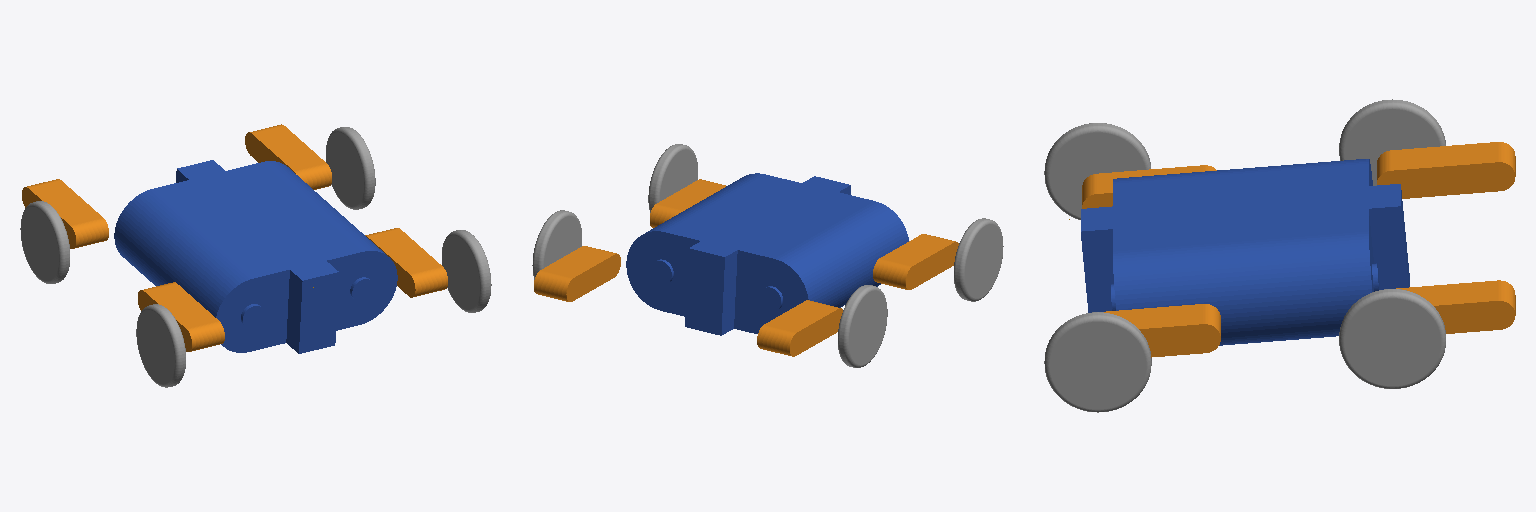
--- Render facts (derived) ---
3 views of the same robot in one strip: view 1: azimuth 30°, elevation 25°; view 2: azimuth 150°, elevation 25°; view 3: azimuth 270°, elevation 25° (orthographic).
Model wheely with 18 links and 17 joints (16 revolute, 1 fixed), rooted at base, posed all joints at 0.
Links seen in each view (by area): view 1: trunk, FRW, BRW, BLW, FLW, BLUL, FLUL, FRUL, BRUL; view 2: trunk, BLUL, BRW, FRW, BRUL, FRUL, FLW, BLW, FLUL; view 3: trunk, BLW, FLW, BRUL, FRW, BRW, BLUL, FLUL, FRUL.
Boxes of the visible links, x1,y1,x2,y2 form: trunk: (114, 160, 397, 353); FRW: (136, 304, 185, 387); BRW: (20, 201, 69, 283); BLW: (326, 127, 375, 209); FLW: (442, 230, 491, 312); BLUL: (245, 124, 331, 189); FLUL: (365, 228, 447, 297); FRUL: (138, 282, 224, 351); BRUL: (22, 179, 108, 248); trunk: (626, 173, 908, 335); BLUL: (534, 246, 620, 301); BRW: (838, 285, 887, 367); FRW: (954, 218, 1003, 301); BRUL: (757, 300, 842, 356); FRUL: (873, 234, 958, 289); FLW: (648, 144, 697, 212); BLW: (532, 210, 581, 279); FLUL: (650, 179, 725, 227); trunk: (1081, 159, 1409, 345); BLW: (1339, 289, 1445, 388); FLW: (1044, 312, 1151, 412); BRUL: (1377, 142, 1515, 198); FRW: (1044, 123, 1150, 219); BRW: (1339, 99, 1445, 185); BLUL: (1396, 280, 1515, 333); FLUL: (1104, 304, 1220, 357); FRUL: (1082, 165, 1216, 208).
Bounding box of the posed robot: 0.433 × 0.4396 × 0.1258 m (x, y, z).
9 mesh visuals loaded from 5 distinct referenced files (3 binary STL); not drawn: 8 (reference not matched to a file when rendering).

The robot description file, URDF, robot "wheely":
<?xml version="1.0" encoding="utf-8"?>
<robot name="wheely">
    <link name="base">
        <visual>
            <origin rpy="0 0 0" xyz="0 0 0" />
            <geometry>
                <box size="0.001 0.001 0.001" />
            </geometry>
        </visual>
    </link>
    <joint name="floating_base" type="fixed">
        <origin rpy="0 0 0" xyz="0 0 0" />
        <parent link="base" />
        <child link="trunk" />
    </joint>
    <link name="trunk">
        <visual>
            <origin xyz="0.016085846076173661995 0.168115314486978501 -0.079626516931856003434"
                rpy="0.087266479572840227608 1.1592872166690008089e-09 -1.3250729495637539251e-08" />
            <geometry>
                <mesh filename="../meshes/V2.7/main_body_sim.stl" />
            </geometry>
            <material name="main_body_sim_material">
                <color rgba="0.2313725490196078538 0.38039215686274507888 0.7058823529411765163 1.0" />
            </material>
        </visual>
        <collision>
            <origin xyz="0.016085846076173661995 0.168115314486978501 -0.079626516931856003434"
                rpy="0.087266479572840227608 1.1592872166690008089e-09 -1.3250729495637539251e-08" />
            <geometry>
                <mesh filename="../meshes/V2.7/main_body_sim.stl" />
            </geometry>
        </collision>
        <inertial>
            <origin xyz="0.016085846076173533625 0.16375752650416883216 -0.029816782101233972602"
                rpy="0 0 0" />
            <mass value="1.0520000000000002682" />
            <inertia ixx="0.0066139164607848287616" ixy="-1.7682651499246315317e-11"
                ixz="-1.5470365969232099219e-12" iyy="0.0053174843064010216681"
                iyz="-0.00043473230710836267745" izz="0.010248462186988568576" />
        </inertial>
    </link>

    <link name="FRH">
        <visual>
            <origin xyz="0.032215611636638628867 0.028555101990604014883 0"
                rpy="1.570796326794896558 -4.2438333867592718619e-25 4.6771345179228599959e-26" />
            <geometry>
                <mesh filename="../meshes/V2.7/hip_joint_sim.stl" />
            </geometry>
            <material name="hip_joint_sim_material">
                <color
                    rgba="0.86666666666666669627 0.32156862745098041545 0.15686274509803921351 1.0" />
            </material>
        </visual>
        <collision>
            <origin xyz="0.032215611636638628867 0.028555101990604014883 0"
                rpy="1.570796326794896558 -4.2438333867592718619e-25 4.6771345179228599959e-26" />
            <geometry>
                <mesh filename="../meshes/V2.7/hip_joint_sim.stl" />
            </geometry>
        </collision>
        <inertial>
            <origin xyz="0.021525592503996208993 1.0408340855860842566e-17 -0.012500000000000000694"
                rpy="0 0 0" />
            <mass value="0.0090000000000000010547" />
            <inertia ixx="1.1139804559497151344e-06" ixy="-5.7653600179275655136e-32"
                ixz="4.5802622107353119717e-30" iyy="3.861958513835964979e-06"
                iyz="1.6881355714084500069e-23" izz="4.0384389697856793485e-06" />
        </inertial>
    </link>

    <link name="FRUL">
        <visual>
            <origin xyz="0 -3.4694469519536141888e-18 -0.044999999999999984457"
                rpy="-1.570796326794896558 -1.570796326794896558 0" />
            <geometry>
                <mesh filename="../meshes/V2.7/leg_upper_sim.stl" />
            </geometry>
            <material name="leg_upper_sim_material">
                <color
                    rgba="0.90980392156862743835 0.57254901960784310155 0.16470588235294117418 1.0" />
            </material>
        </visual>
        <collision>
            <origin xyz="0 -3.4694469519536141888e-18 -0.044999999999999984457"
                rpy="-1.570796326794896558 -1.570796326794896558 0" />
            <geometry>
                <mesh filename="../meshes/V2.7/leg_upper_sim.stl" />
            </geometry>
        </collision>
        <inertial>
            <origin
                xyz="6.2383065914996698518e-18 -0.049999999999999995837 -0.022499999999999978351"
                rpy="0 0 0" />
            <mass value="0.37600000000000000089" />
            <inertia ixx="0.00054596018323756537703" ixy="-3.6081502289419232503e-21"
                ixz="-1.5570501078285423572e-28" iyy="9.0305640199817024754e-05"
                iyz="-1.0816533961556011352e-27" izz="0.00050936582343738242076" />
        </inertial>
    </link>

    <link name="FRLL">
        <visual>
            <origin xyz="-6.9388939039072283776e-18 0 -0.025000000000000022204"
                rpy="-1.570796326794896558 -1.570796326794896558 0" />
            <geometry>
                <mesh filename="../meshes/V2.7/leg_lower_sim.stl" />
            </geometry>
            <material name="leg_lower_sim_material">
                <color rgba="1 0.7568627450980391913 0.054901960784313724728 1.0" />
            </material>
        </visual>
        <collision>
            <origin xyz="-6.9388939039072283776e-18 0 -0.025000000000000022204"
                rpy="-1.570796326794896558 -1.570796326794896558 0" />
            <geometry>
                <mesh filename="../meshes/V2.7/leg_lower_sim.stl" />
            </geometry>
        </collision>
        <inertial>
            <origin
                xyz="-1.6565681861865563553e-18 -0.061136909622975930956 -0.012500000000000019776"
                rpy="0 0 0" />
            <mass value="0.058000000000000002942" />
            <inertia ixx="9.3657217382847455416e-05" ixy="8.7623385824824253441e-22"
                ixz="-8.0076840611424203394e-30" iyy="9.3296789238021381879e-06"
                iyz="2.7174534049753015943e-28" izz="9.6945229639982987888e-05" />
        </inertial>
    </link>

    <link name="FRW">
        <visual>
            <origin xyz="-0.087087206542491898964 -0.02704686298966407082 -0.014999999999999985567"
                rpy="-1.570796326794896558 -1.570796326794896558 0" />
            <geometry>
                <mesh filename="../meshes/V2.7/wheel_sim.stl" />
            </geometry>
            <material name="wheel_sim_material">
                <color
                    rgba="0.64705882352941179736 0.64705882352941179736 0.64705882352941179736 1.0" />
            </material>
        </visual>
        <collision>
            <origin xyz="-0.087087206542491898964 -0.02704686298966407082 -0.014999999999999985567"
                rpy="-1.570796326794896558 -1.570796326794896558 0" />
            <geometry>
                <mesh filename="../meshes/V2.7/wheel_sim.stl" />
            </geometry>
        </collision>
        <inertial>
            <origin
                xyz="1.3527462244954900352e-17 3.4694469519536141888e-18 -0.007499999999999986712"
                rpy="0 0 0" />
            <mass value="0.036999999999999998168" />
            <inertia ixx="2.3186407739588025368e-05" ixy="-4.9990566576337651389e-22"
                ixz="-7.9693294831989268377e-30" iyy="2.3186407739588018592e-05"
                iyz="-4.276202136615104681e-30" izz="4.5033754578493196004e-05" />
        </inertial>
    </link>

    <joint name="FRW joint" type="revolute">
        <origin xyz="-2.0816681711721685133e-17 -0.099999999999999880651 -0.025500000000000022649"
            rpy="-7.9092802216408258593e-24 6.8814771349931104597e-24 1.570796326794896558" />
        <parent link="FRLL" />
        <child link="FRW" />
        <axis xyz="0 0 1" />
        <limit effort="3.43" velocity="1.5707" />
        <joint_properties friction="0.0" />
    </joint>

    <joint name="FRK joint" type="revolute">
        <origin xyz="1.3877787807814456755e-17 -0.10000000000000000555 -0.045499999999999957145"
            rpy="5.0864344218527357745e-16 -8.2215564428531773414e-17 3.141592653589753148" />
        <parent link="FRUL" />
        <child link="FRLL" />
        <axis xyz="0 0 1" />
        <limit effort="6.864655" velocity="8.055365759832842" lower="0" upper="3.141592653589793116" />
        <joint_properties friction="0.0" />
    </joint>

    <joint name="FRHL joint" type="revolute">
        <origin xyz="0.055499999999999986844 6.9388939039072283776e-18 -0.012500000000000004163"
            rpy="-1.57079632679489678 -1.6973124467726718736e-08 1.5707963267948958919" />
        <parent link="FRH" />
        <child link="FRUL" />
        <axis xyz="0 0 1" />
        <limit effort="6.864655" velocity="8.055365759832842" lower="-3.141592653589793116" upper="0" />
        <joint_properties friction="0.0" />
    </joint>

    <joint name="FRHU joint" type="revolute">
        <origin xyz="-0.058914155593145264844 0.038735093073112264461 -0.040754829851139789954"
            rpy="1.4835298472220561639 -1.1592871302188590348e-09 3.1415926403390632693" />
        <parent link="trunk" />
        <child link="FRH" />
        <axis xyz="0 0 1" />
        <limit effort="6.864655" velocity="8.055365759832842" lower="-0.75" upper="0.75" />
        <joint_properties friction="0.0" />
    </joint>

    <link name="FLH">
        <visual>
            <origin xyz="0.032215611636638635806 0.028555101990604007944 0"
                rpy="1.570796326794896558 7.0286894079455799334e-25 -5.5953751071726945294e-26" />
            <geometry>
                <mesh filename="../meshes/V2.7/hip_joint_sim.stl" />
            </geometry>
            <material name="hip_joint_sim_material">
                <color
                    rgba="0.86666666666666669627 0.32156862745098041545 0.15686274509803921351 1.0" />
            </material>
        </visual>
        <collision>
            <origin xyz="0.032215611636638635806 0.028555101990604007944 0"
                rpy="1.570796326794896558 7.0286894079455799334e-25 -5.5953751071726945294e-26" />
            <geometry>
                <mesh filename="../meshes/V2.7/hip_joint_sim.stl" />
            </geometry>
        </collision>
        <inertial>
            <origin xyz="0.021525592503996215932 6.9388939039072283776e-18 -0.012500000000000000694"
                rpy="0 0 0" />
            <mass value="0.0090000000000000010547" />
            <inertia ixx="1.1139804559497151344e-06" ixy="6.9890069904689581073e-31"
                ixz="-4.204026939458761193e-30" iyy="3.8619585138359632849e-06"
                iyz="-3.4197126064241064045e-23" izz="4.0384389697856793485e-06" />
        </inertial>
    </link>

    <link name="FLUL">
        <visual>
            <origin xyz="0 0 -2.7755575615628913511e-17"
                rpy="1.570796326794896558 1.570796326794896558 0" />
            <geometry>
                <mesh filename="../meshes/V2.7/leg_upper_sim.stl" />
            </geometry>
            <material name="leg_upper_sim_material">
                <color
                    rgba="0.90980392156862743835 0.57254901960784310155 0.16470588235294117418 1.0" />
            </material>
        </visual>
        <collision>
            <origin xyz="0 0 -2.7755575615628913511e-17"
                rpy="1.570796326794896558 1.570796326794896558 0" />
            <geometry>
                <mesh filename="../meshes/V2.7/leg_upper_sim.stl" />
            </geometry>
        </collision>
        <inertial>
            <origin xyz="5.1875742030047978415e-18 0.049999999999999995837 -0.022500000000000033862"
                rpy="0 0 0" />
            <mass value="0.37600000000000000089" />
            <inertia ixx="0.00054596018323756516019" ixy="4.5992593113879710026e-22"
                ixz="-1.4525527803094125949e-28" iyy="9.0305640199817024754e-05"
                iyz="1.9258726447419818821e-28" izz="0.00050936582343738242076" />
        </inertial>
    </link>

    <link name="FLLL">
        <visual>
            <origin xyz="6.9388939039072283776e-18 -1.3877787807814456755e-17 0"
                rpy="1.570796326794896558 1.570796326794896558 0" />
            <geometry>
                <mesh filename="../meshes/V2.7/leg_lower_sim.stl" />
            </geometry>
            <material name="leg_lower_sim_material">
                <color rgba="1 0.7568627450980391913 0.054901960784313724728 1.0" />
            </material>
        </visual>
        <collision>
            <origin xyz="6.9388939039072283776e-18 -1.3877787807814456755e-17 0"
                rpy="1.570796326794896558 1.570796326794896558 0" />
            <geometry>
                <mesh filename="../meshes/V2.7/leg_lower_sim.stl" />
            </geometry>
        </collision>
        <inertial>
            <origin xyz="1.222748492973559549e-17 0.061136909622975910139 -0.012500000000000002429"
                rpy="0 0 0" />
            <mass value="0.058000000000000002942" />
            <inertia ixx="9.3657217382847482521e-05" ixy="2.6094494728404816957e-22"
                ixz="2.5647267860967063194e-29" iyy="9.3296789238021381879e-06"
                iyz="-6.9440235685524328369e-29" izz="9.6945229639982987888e-05" />
        </inertial>
    </link>

    <link name="FLW">
        <visual>
            <origin xyz="-0.087087206542491912842 0.027046862989664084698 0"
                rpy="1.570796326794896558 1.570796326794896558 0" />
            <geometry>
                <mesh filename="../meshes/V2.7/wheel_sim.stl" />
            </geometry>
            <material name="wheel_sim_material">
                <color
                    rgba="0.64705882352941179736 0.64705882352941179736 0.64705882352941179736 1.0" />
            </material>
        </visual>
        <collision>
            <origin xyz="-0.087087206542491912842 0.027046862989664084698 0"
                rpy="1.570796326794896558 1.570796326794896558 0" />
            <geometry>
                <mesh filename="../meshes/V2.7/wheel_sim.stl" />
            </geometry>
        </collision>
        <inertial>
            <origin
                xyz="-1.7881189760053742421e-19 1.0408340855860842566e-17 -0.0074999999999999997224"
                rpy="0 0 0" />
            <mass value="0.036999999999999998168" />
            <inertia ixx="2.3186407739588025368e-05" ixy="4.3937121173749151425e-22"
                ixz="-7.0408485960714528607e-30" iyy="2.3186407739588018592e-05"
                iyz="3.4889273503835089843e-31" izz="4.5033754578493196004e-05" />
        </inertial>
    </link>

    <joint name="FLW joint" type="revolute">
        <origin xyz="-6.3143934525555778237e-16 0.099999999999997687961 -0.025499999999999994893"
            rpy="3.5388568884116363061e-16 -1.2337535347084987515e-22 -1.570796326794896336" />
        <parent link="FLLL" />
        <child link="FLW" />
        <axis xyz="0 0 1" />
        <limit effort="3.43" velocity="1.5707" />
        <joint_properties friction="0.0" />
    </joint>

    <joint name="FLK joint" type="revolute">
        <origin xyz="6.9388939039072283776e-18 0.099999999999999991673 -0.045500000000000012657"
            rpy="-7.5536900123638314732e-24 -6.018276161768133612e-25 -3.141592653589793116" />
        <parent link="FLUL" />
        <child link="FLLL" />
        <axis xyz="0 0 1" />
        <limit effort="6.864655" velocity="8.055365759832842" lower="-3.141592653589793116" upper="0" />
        <joint_properties friction="0.0" />
    </joint>

    <joint name="FLHL joint" type="revolute">
        <origin xyz="0.055500000000000021538 0 -0.012499999999999993755"
            rpy="1.570796326794896558 6.8272161205998660935e-17 -1.570796326794896558" />
        <parent link="FLH" />
        <child link="FLUL" />
        <axis xyz="0 0 1" />
        <limit effort="6.864655" velocity="8.055365759832842" lower="0" upper="3.141592653589793116" />
        <joint_properties friction="0.0" />
    </joint>

    <joint name="FLHU joint" type="revolute">
        <origin xyz="0.091085844406854715727 0.038735091085502881825 -0.040754830025032842689"
            rpy="-1.4835298472220563859 1.1592872166690003953e-09 -1.3250729495637545868e-08" />
        <parent link="trunk" />
        <child link="FLH" />
        <axis xyz="0 0 1" />
        <limit effort="6.864655" velocity="8.055365759832842" lower="-0.75" upper="0.75" />
        <joint_properties friction="0.0" />
    </joint>

    <link name="BLH">
        <visual>
            <origin xyz="0.032215611636638635806 -0.028555101990604001005 -0.024999999999999966693"
                rpy="-1.570796326794896558 1.0698161546298271925e-25 -7.5375053624197476213e-26" />
            <geometry>
                <mesh filename="../meshes/V2.7/hip_joint_sim.stl" />
            </geometry>
            <material name="hip_joint_sim_material">
                <color
                    rgba="0.86666666666666669627 0.32156862745098041545 0.15686274509803921351 1.0" />
            </material>
        </visual>
        <collision>
            <origin xyz="0.032215611636638635806 -0.028555101990604001005 -0.024999999999999966693"
                rpy="-1.570796326794896558 1.0698161546298271925e-25 -7.5375053624197476213e-26" />
            <geometry>
                <mesh filename="../meshes/V2.7/hip_joint_sim.stl" />
            </geometry>
        </collision>
        <inertial>
            <origin xyz="0.021525592503996215932 0 -0.012499999999999965999" rpy="0 0 0" />
            <mass value="0.0090000000000000010547" />
            <inertia ixx="1.1139804559497151344e-06" ixy="7.2818587311957498518e-31"
                ixz="6.215385234648518443e-30" iyy="3.8619585138359632849e-06"
                iyz="-8.9527515258008484814e-23" izz="4.0384389697856793485e-06" />
        </inertial>
    </link>

    <link name="BLUL">
        <visual>
            <origin xyz="-6.9388939039072283776e-18 0 0"
                rpy="1.570796326794896558 1.570796326794896558 0" />
            <geometry>
                <mesh filename="../meshes/V2.7/leg_upper_sim.stl" />
            </geometry>
            <material name="leg_upper_sim_material">
                <color
                    rgba="0.90980392156862743835 0.57254901960784310155 0.16470588235294117418 1.0" />
            </material>
        </visual>
        <collision>
            <origin xyz="-6.9388939039072283776e-18 0 0"
                rpy="1.570796326794896558 1.570796326794896558 0" />
            <geometry>
                <mesh filename="../meshes/V2.7/leg_upper_sim.stl" />
            </geometry>
        </collision>
        <inertial>
            <origin xyz="-1.3627131306886245e-18 0.049999999999999995837 -0.022500000000000006106"
                rpy="0 0 0" />
            <mass value="0.37600000000000000089" />
            <inertia ixx="0.00054596018323756516019" ixy="4.2645847665350335368e-21"
                ixz="3.8306015682044421008e-29" iyy="9.0305640199817024754e-05"
                iyz="-6.0513618616234192516e-28" izz="0.00050936582343738242076" />
        </inertial>
    </link>

    <link name="BLLL">
        <visual>
            <origin xyz="0 5.5511151231257827021e-17 0"
                rpy="1.570796326794896558 1.570796326794896558 0" />
            <geometry>
                <mesh filename="../meshes/V2.7/leg_lower_sim.stl" />
            </geometry>
            <material name="leg_lower_sim_material">
                <color rgba="1 0.7568627450980391913 0.054901960784313724728 1.0" />
            </material>
        </visual>
        <collision>
            <origin xyz="0 5.5511151231257827021e-17 0"
                rpy="1.570796326794896558 1.570796326794896558 0" />
            <geometry>
                <mesh filename="../meshes/V2.7/leg_lower_sim.stl" />
            </geometry>
        </collision>
        <inertial>
            <origin xyz="5.0296824213936827412e-18 0.061136909622975993406 -0.012500000000000002429"
                rpy="0 0 0" />
            <mass value="0.058000000000000002942" />
            <inertia ixx="9.3657217382847563836e-05" ixy="1.552176727869005346e-21"
                ixz="-1.6401783152993076353e-29" iyy="9.3296789238021415761e-06"
                iyz="6.6270565955543233865e-29" izz="9.6945229639982987888e-05" />
        </inertial>
    </link>

    <link name="BLW">
        <visual>
            <origin xyz="-0.087087206542491968353 0.027046862989664081228 0"
                rpy="1.570796326794896558 1.570796326794896558 0" />
            <geometry>
                <mesh filename="../meshes/V2.7/wheel_sim.stl" />
            </geometry>
            <material name="wheel_sim_material">
                <color
                    rgba="0.64705882352941179736 0.64705882352941179736 0.64705882352941179736 1.0" />
            </material>
        </visual>
        <collision>
            <origin xyz="-0.087087206542491968353 0.027046862989664081228 0"
                rpy="1.570796326794896558 1.570796326794896558 0" />
            <geometry>
                <mesh filename="../meshes/V2.7/wheel_sim.stl" />
            </geometry>
        </collision>
        <inertial>
            <origin
                xyz="-6.93602761975395483e-17 3.4694469519536141888e-18 -0.0074999999999999997224"
                rpy="0 0 0" />
            <mass value="0.036999999999999998168" />
            <inertia ixx="2.3186407739588018592e-05" ixy="-2.1352802728494658065e-22"
                ixz="-1.7444581624479791579e-29" iyy="2.3186407739588025368e-05"
                iyz="2.5821388284746647044e-30" izz="4.5033754578493196004e-05" />
        </inertial>
    </link>

    <joint name="BLW joint" type="revolute">
        <origin xyz="3.4694469519536141888e-17 0.10000000000000014433 -0.025499999999999967137"
            rpy="4.5045183749304534022e-24 8.6362713993684203648e-24 1.570796326794896558" />
        <parent link="BLLL" />
        <child link="BLW" />
        <axis xyz="0 0 1" />
        <limit effort="3.43" velocity="1.5707" />
        <joint_properties friction="0.0" />
    </joint>

    <joint name="BLK joint" type="revolute">
        <origin xyz="1.3877787807814456755e-17 0.099999999999999977796 -0.045500000000000012657"
            rpy="1.3021092769811203887e-23 3.6041219465857317813e-22 -3.1415926535897900074" />
        <parent link="BLUL" />
        <child link="BLLL" />
        <axis xyz="0 0 1" />
        <limit effort="6.864655" velocity="8.055365759832842" lower="-3.141592653589793116" upper="0" />
        <joint_properties friction="0.0" />
    </joint>

    <joint name="BLHL joint" type="revolute">
        <origin xyz="0.055500000000000049294 -6.9388939039072283776e-18 -0.012499999999999955591"
            rpy="-1.570796326794896558 7.5920985382837631167e-18 1.570796326794896558" />
        <parent link="BLH" />
        <child link="BLUL" />
        <axis xyz="0 0 1" />
        <limit effort="6.864655" velocity="8.055365759832842" lower="0" upper="3.141592653589793116" />
        <joint_properties friction="0.0" />
    </joint>

    <joint name="BLHU joint" type="revolute">
        <origin xyz="0.091085847745492304339 0.28877995993522542761 -0.018878734351328172597"
            rpy="1.6580628063677369521 1.1592872998405336429e-09 -1.3250729769561944394e-08" />
        <parent link="trunk" />
        <child link="BLH" />
        <axis xyz="0 0 1" />
        <limit effort="6.864655" velocity="8.055365759832842" lower="-0.75" upper="0.75" />
        <joint_properties friction="0.0" />
    </joint>

    <link name="BRH">
        <visual>
            <origin xyz="0.032215611636638635806 -0.028555101990604007944 -0.025000000000000022204"
                rpy="-1.570796326794896558 2.5857472753861947361e-25 3.7124116759250925537e-25" />
            <geometry>
                <mesh filename="../meshes/V2.7/hip_joint_sim.stl" />
            </geometry>
            <material name="hip_joint_sim_material">
                <color
                    rgba="0.86666666666666669627 0.32156862745098041545 0.15686274509803921351 1.0" />
            </material>
        </visual>
        <collision>
            <origin xyz="0.032215611636638635806 -0.028555101990604007944 -0.025000000000000022204"
                rpy="-1.570796326794896558 2.5857472753861947361e-25 3.7124116759250925537e-25" />
            <geometry>
                <mesh filename="../meshes/V2.7/hip_joint_sim.stl" />
            </geometry>
        </collision>
        <inertial>
            <origin
                xyz="0.021525592503996215932 -6.9388939039072283776e-18 -0.012500000000000021511"
                rpy="0 0 0" />
            <mass value="0.0090000000000000010547" />
            <inertia ixx="1.1139804559497151344e-06" ixy="5.1307049366483959977e-31"
                ixz="-1.0982108385939740633e-29" iyy="3.8619585138359632849e-06"
                iyz="-1.2982143039433436691e-22" izz="4.0384389697856793485e-06" />
        </inertial>
    </link>

    <link name="BRUL">
        <visual>
            <origin xyz="0 0 -0.044999999999999998335"
                rpy="-1.570796326794896558 -1.570796326794896558 0" />
            <geometry>
                <mesh filename="../meshes/V2.7/leg_upper_sim.stl" />
            </geometry>
            <material name="leg_upper_sim_material">
                <color
                    rgba="0.90980392156862743835 0.57254901960784310155 0.16470588235294117418 1.0" />
            </material>
        </visual>
        <collision>
            <origin xyz="0 0 -0.044999999999999998335"
                rpy="-1.570796326794896558 -1.570796326794896558 0" />
            <geometry>
                <mesh filename="../meshes/V2.7/leg_upper_sim.stl" />
            </geometry>
        </collision>
        <inertial>
            <origin
                xyz="5.3710312285871194511e-18 -0.049999999999999995837 -0.022499999999999992228"
                rpy="0 0 0" />
            <mass value="0.37600000000000000089" />
            <inertia ixx="0.00054596018323756537703" ixy="-4.0997350286313552261e-21"
                ixz="-6.8497463608921523299e-29" iyy="9.0305640199817051859e-05"
                iyz="-5.2442904977854927958e-28" izz="0.00050936582343738242076" />
        </inertial>
    </link>

    <link name="BRLL">
        <visual>
            <origin
                xyz="-6.9388939039072283776e-18 -1.1102230246251565404e-16 -0.025000000000000022204"
                rpy="-1.570796326794896558 -1.570796326794896558 0" />
            <geometry>
                <mesh filename="../meshes/V2.7/leg_lower_sim.stl" />
            </geometry>
            <material name="leg_lower_sim_material">
                <color rgba="1 0.7568627450980391913 0.054901960784313724728 1.0" />
            </material>
        </visual>
        <collision>
            <origin
                xyz="-6.9388939039072283776e-18 -1.1102230246251565404e-16 -0.025000000000000022204"
                rpy="-1.570796326794896558 -1.570796326794896558 0" />
            <geometry>
                <mesh filename="../meshes/V2.7/leg_lower_sim.stl" />
            </geometry>
        </collision>
        <inertial>
            <origin
                xyz="-1.5120699944732869491e-18 -0.061136909622976041978 -0.012500000000000019776"
                rpy="0 0 0" />
            <mass value="0.058000000000000002942" />
            <inertia ixx="9.3657217382847482521e-05" ixy="-8.5115057308495856364e-23"
                ixz="1.9982045116986763224e-30" iyy="9.3296789238021381879e-06"
                iyz="-2.3507485930776857776e-29" izz="9.6945229639982987888e-05" />
        </inertial>
    </link>

    <link name="BRW">
        <visual>
            <origin xyz="-0.087087206542491912842 -0.027046862989664077759 -0.014999999999999985567"
                rpy="-1.570796326794896558 -1.570796326794896558 0" />
            <geometry>
                <mesh filename="../meshes/V2.7/wheel_sim.stl" />
            </geometry>
            <material name="wheel_sim_material">
                <color
                    rgba="0.64705882352941179736 0.64705882352941179736 0.64705882352941179736 1.0" />
            </material>
        </visual>
        <collision>
            <origin xyz="-0.087087206542491912842 -0.027046862989664077759 -0.014999999999999985567"
                rpy="-1.570796326794896558 -1.570796326794896558 0" />
            <geometry>
                <mesh filename="../meshes/V2.7/wheel_sim.stl" />
            </geometry>
        </collision>
        <inertial>
            <origin xyz="-1.379277327633000212e-17 0 -0.007499999999999986712" rpy="0 0 0" />
            <mass value="0.036999999999999998168" />
            <inertia ixx="2.3186407739588018592e-05" ixy="1.7556990739572654568e-22"
                ixz="-3.796197600592832203e-29" iyy="2.3186407739588025368e-05"
                iyz="2.7750954066034261114e-30" izz="4.5033754578493196004e-05" />
        </inertial>
    </link>

    <joint name="BRW joint" type="revolute">
        <origin xyz="4.649058915617843013e-16 -0.10000000000000253131 -0.02550000000000007816"
            rpy="5.280391695094608967e-16 1.990347176363573344e-16 -1.5707963267948996666" />
        <parent link="BRLL" />
        <child link="BRW" />
        <axis xyz="0 0 1" />
        <limit effort="3.43" velocity="1.5707" />
        <joint_properties friction="0.0" />
    </joint>

    <joint name="BRK joint" type="revolute">
        <origin xyz="6.9388939039072283776e-18 -0.099999999999999977796 -0.045499999999999998779"
            rpy="-7.1059545805497230997e-18 4.6448451335924615758e-18 3.141592653589793116" />
        <parent link="BRUL" />
        <child link="BRLL" />
        <axis xyz="0 0 1" />
        <limit effort="6.864655" velocity="8.055365759832842" lower="0" upper="3.141592653589793116" />
        <joint_properties friction="0.0" />
    </joint>

    <joint name="BRHL joint" type="revolute">
        <origin xyz="0.055499999999999979905 -2.0816681711721685133e-17 -0.012499999999999955591"
            rpy="1.570796326794896558 2.5226393505124359703e-17 -1.5707963267948970021" />
        <parent link="BRH" />
        <child link="BRUL" />
        <axis xyz="0 0 1" />
        <limit effort="6.864655" velocity="8.055365759832842" lower="-3.141592653589793116" upper="0" />
        <joint_properties friction="0.0" />
    </joint>

    <joint name="BRHU joint" type="revolute">
        <origin xyz="-0.058914152254507468065 0.28877996192283483801 -0.018878734177435064351"
            rpy="-1.6580628063677369521 -1.1592871143413035731e-09 3.1415926403390637134" />
        <parent link="trunk" />
        <child link="BRH" />
        <axis xyz="0 0 1" />
        <limit effort="6.864655" velocity="8.055365759832842" lower="-0.75" upper="0.75" />
        <joint_properties friction="0.0" />
    </joint>


</robot>
